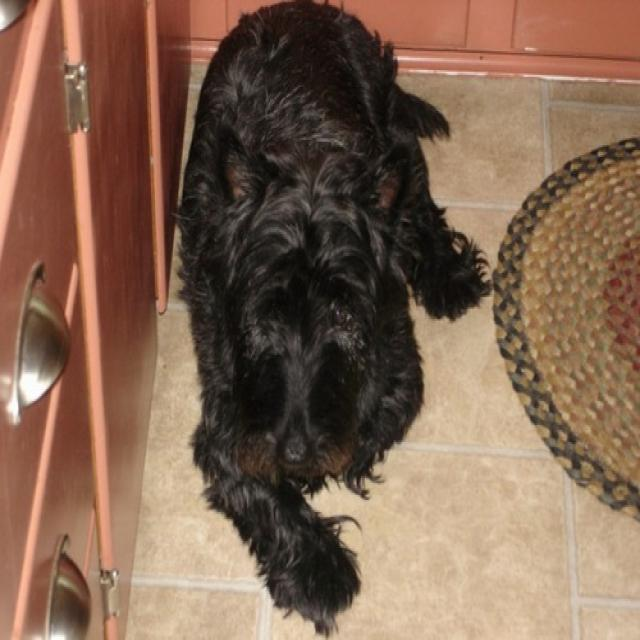dog-scottish_terrier: (170, 2, 485, 637)
